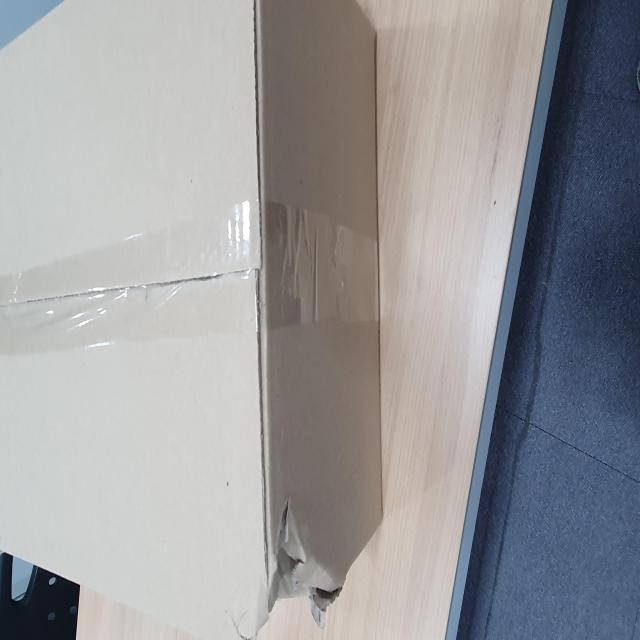damaged: (264, 506, 344, 619)
